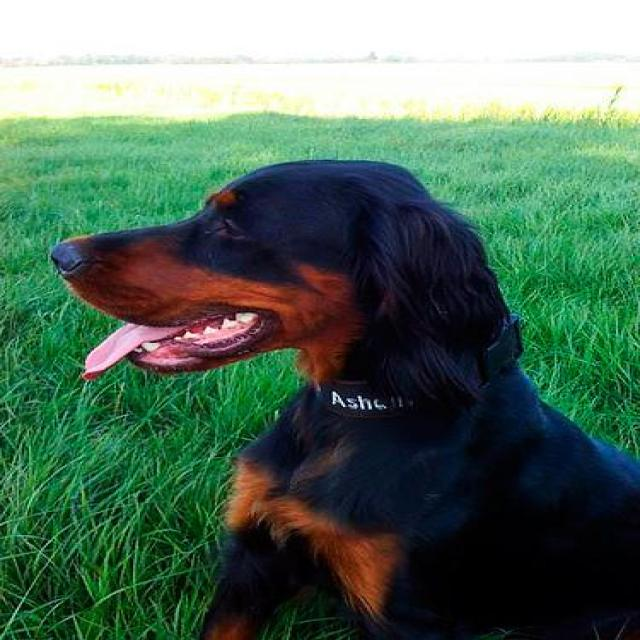happy: (18, 127, 537, 450)
